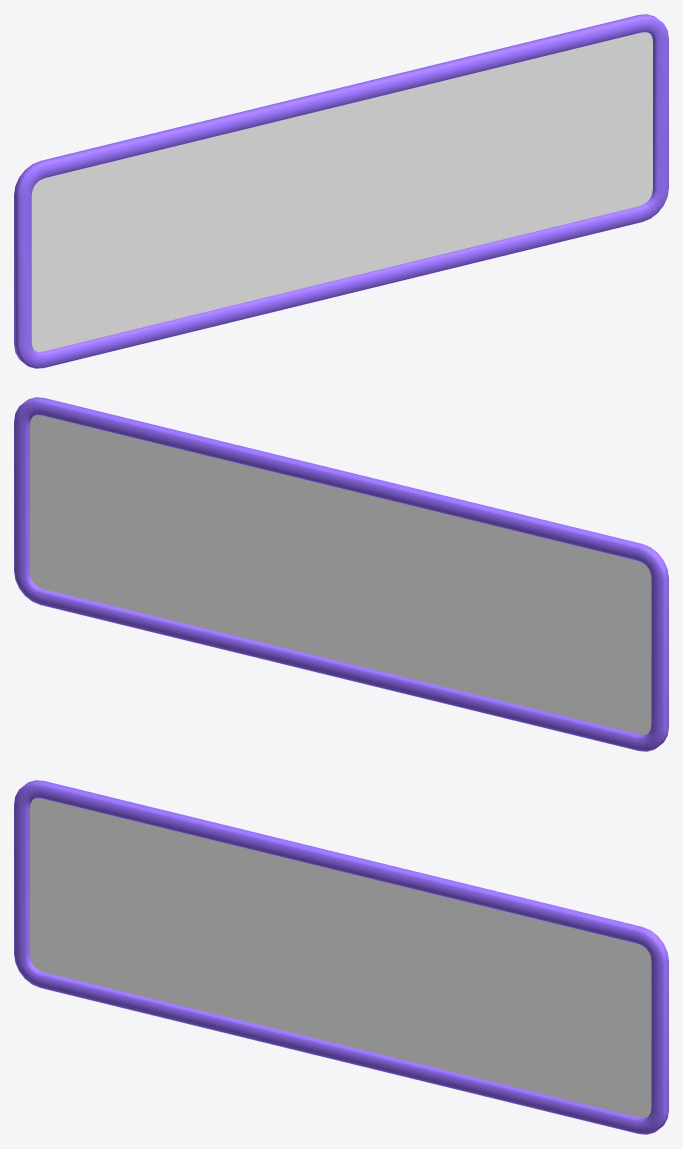
File: countdown_frame.glb
The picture shows the model from 3 angles, top to bottom: view 1: azimuth 30°, elevation 25°; view 2: azimuth 150°, elevation 25°; view 3: azimuth 330°, elevation 25°; orthographic projection.
Visible parts, largest first — view 1: Cube; view 2: Cube; view 3: Cube.
Boxes of the visible parts, bbox=[...] form: Cube: bbox=[14, 14, 668, 368]; Cube: bbox=[14, 397, 668, 751]; Cube: bbox=[14, 780, 668, 1134].
Bounding box in the file's own units: 12.32 × 3.7 × 0.1828.
1 material, 1 textured.
